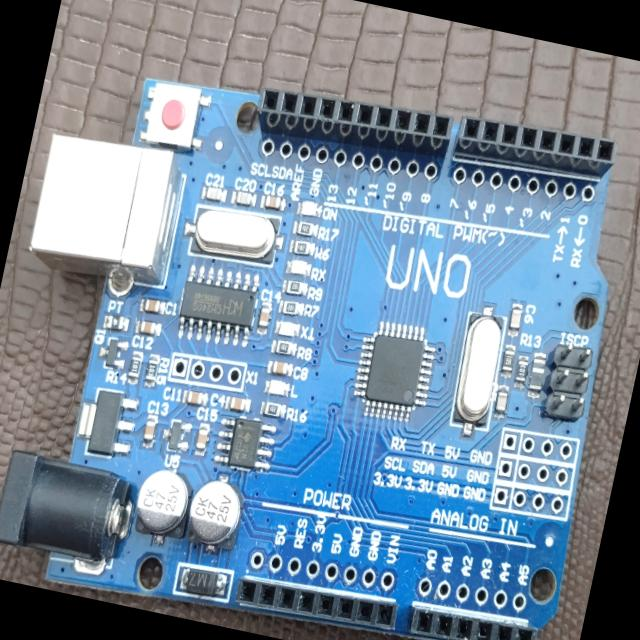arduino: (0, 29, 640, 640)
